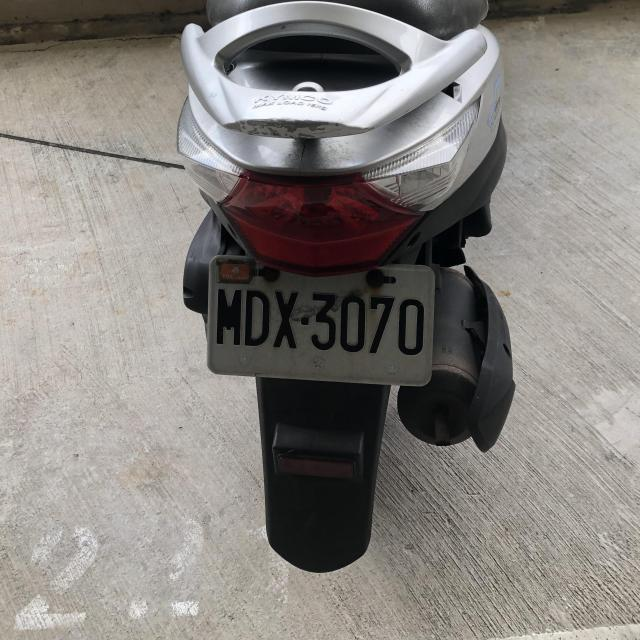W: (204, 250, 437, 387)
